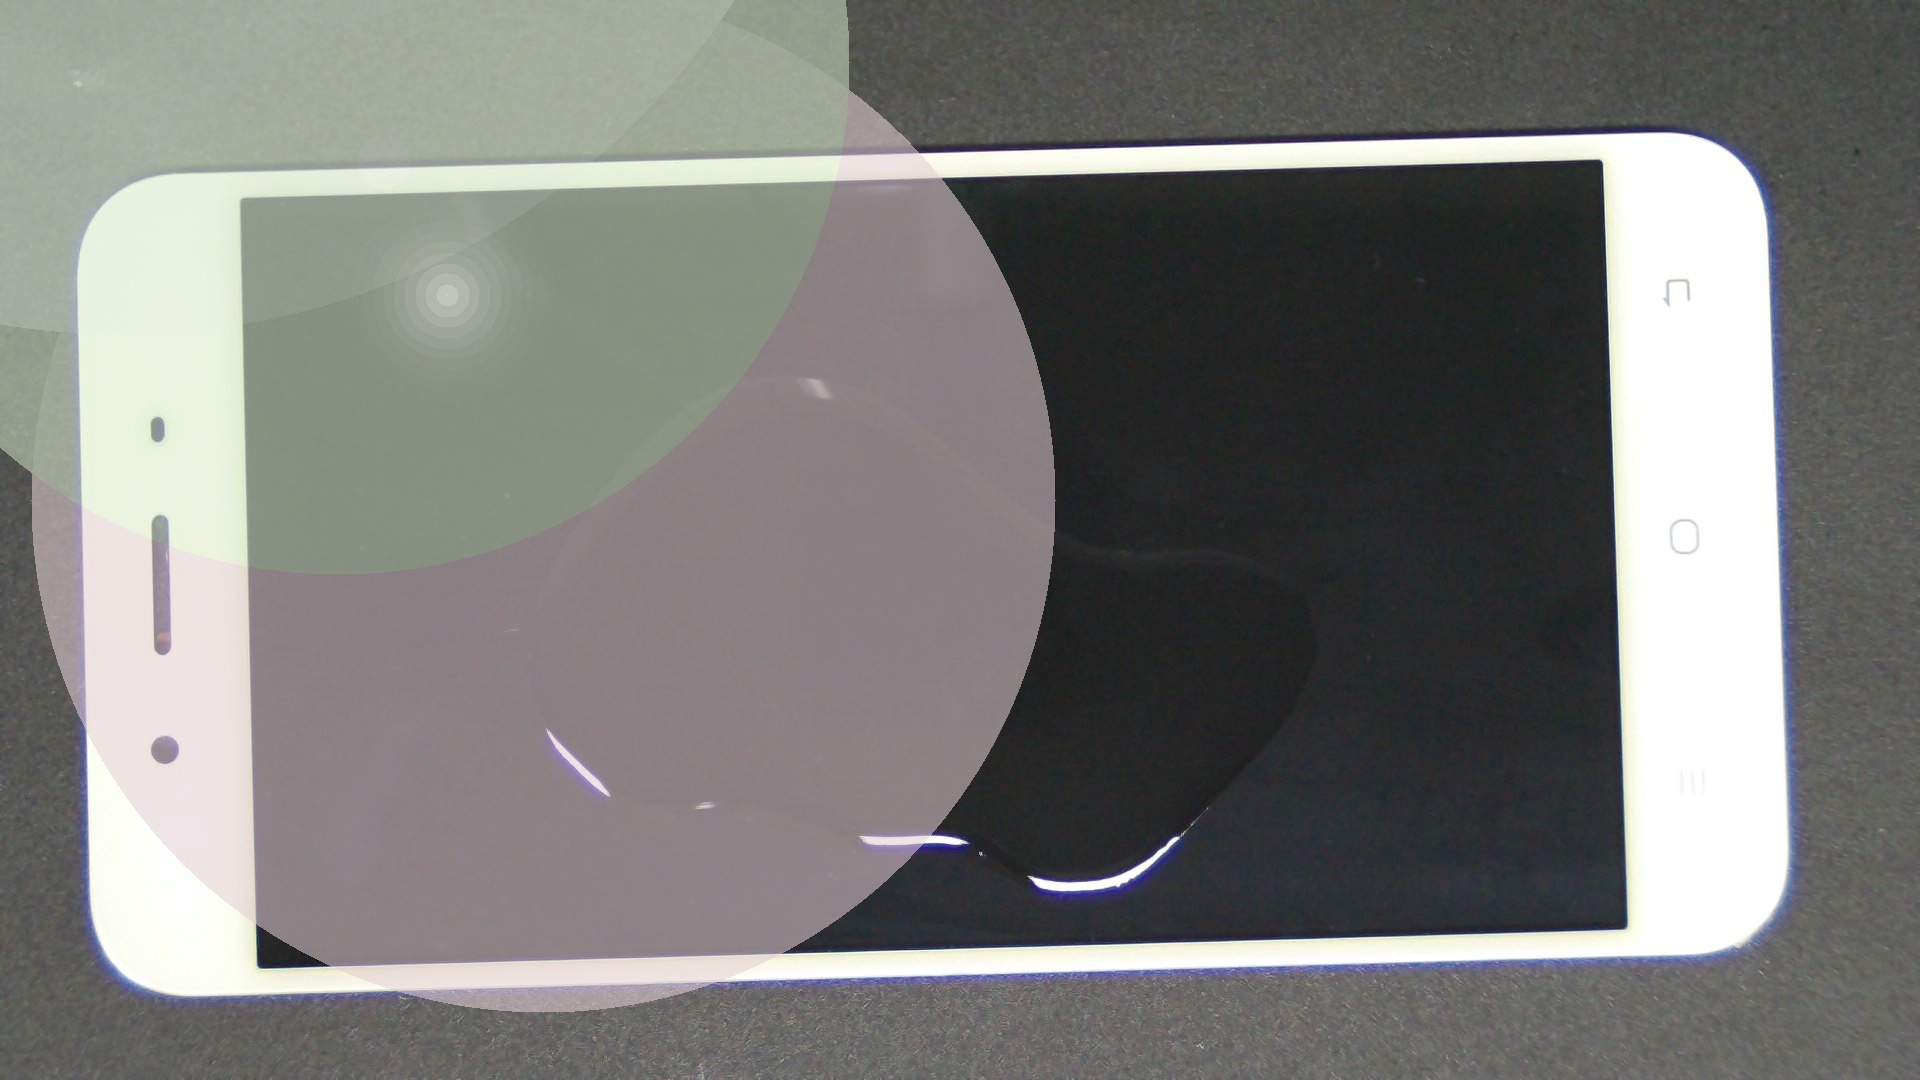oil: (389, 187, 1163, 564)
